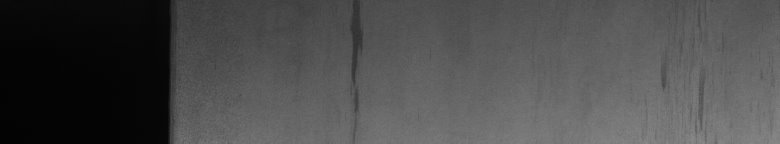hd: (345, 4, 368, 136)
